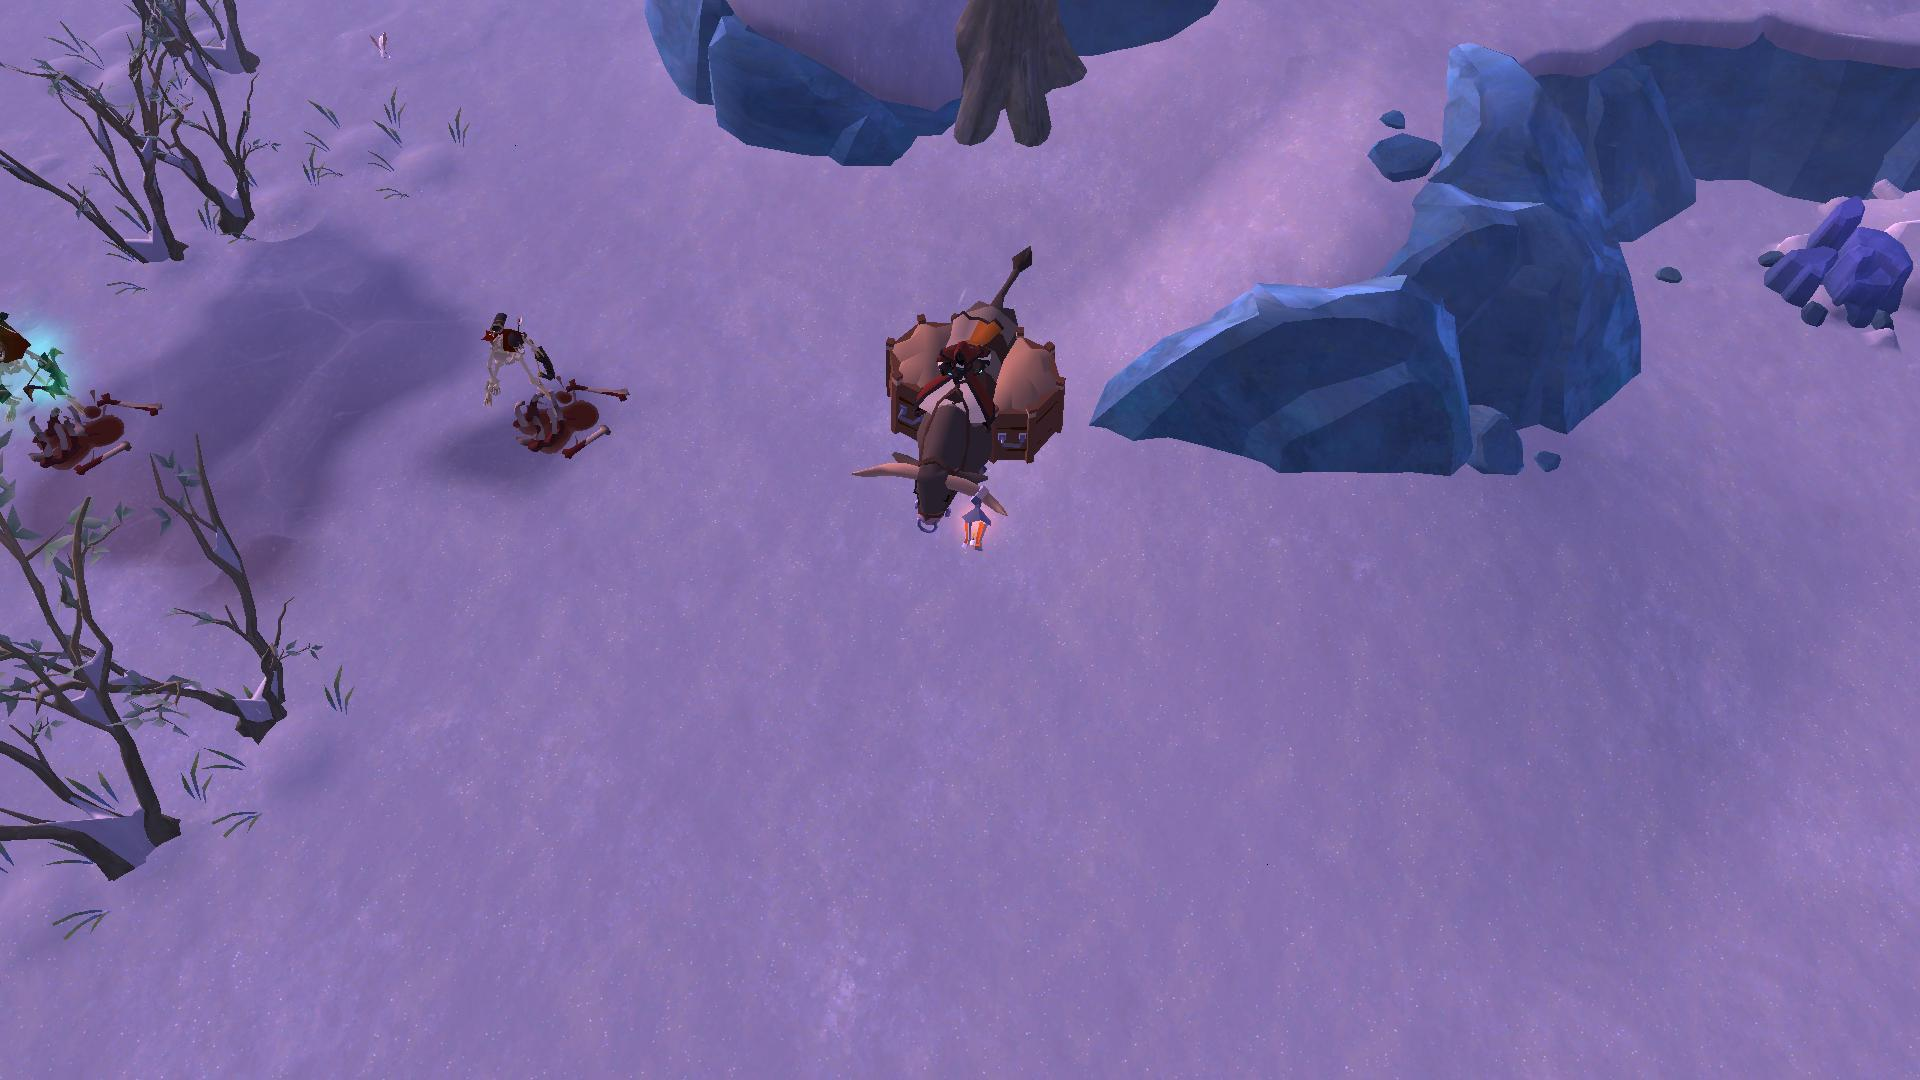enemy_factionUndead: (462, 307, 559, 414), (0, 297, 55, 402)
rock_t4: (1760, 193, 1920, 343)
